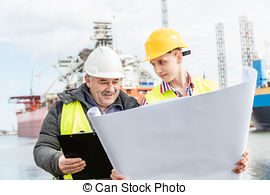casco: (141, 27, 191, 63), (83, 45, 124, 79)
